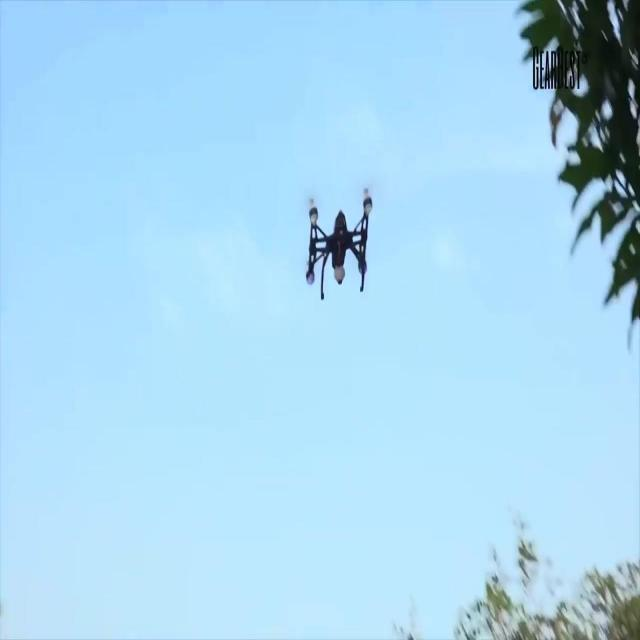UAV: (306, 188, 372, 300)
